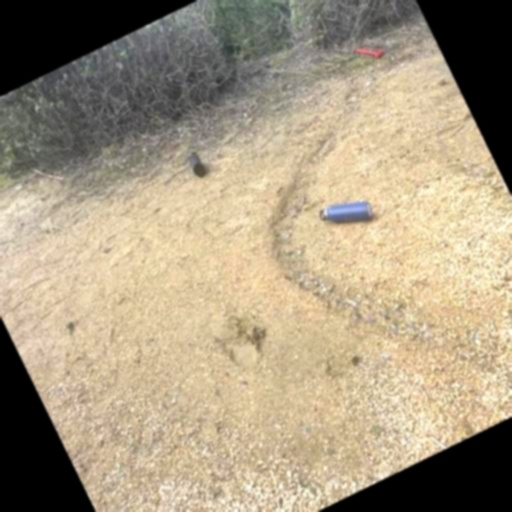bottle: (315, 184, 380, 247), (178, 142, 212, 182)
mallet: (351, 32, 389, 70)
